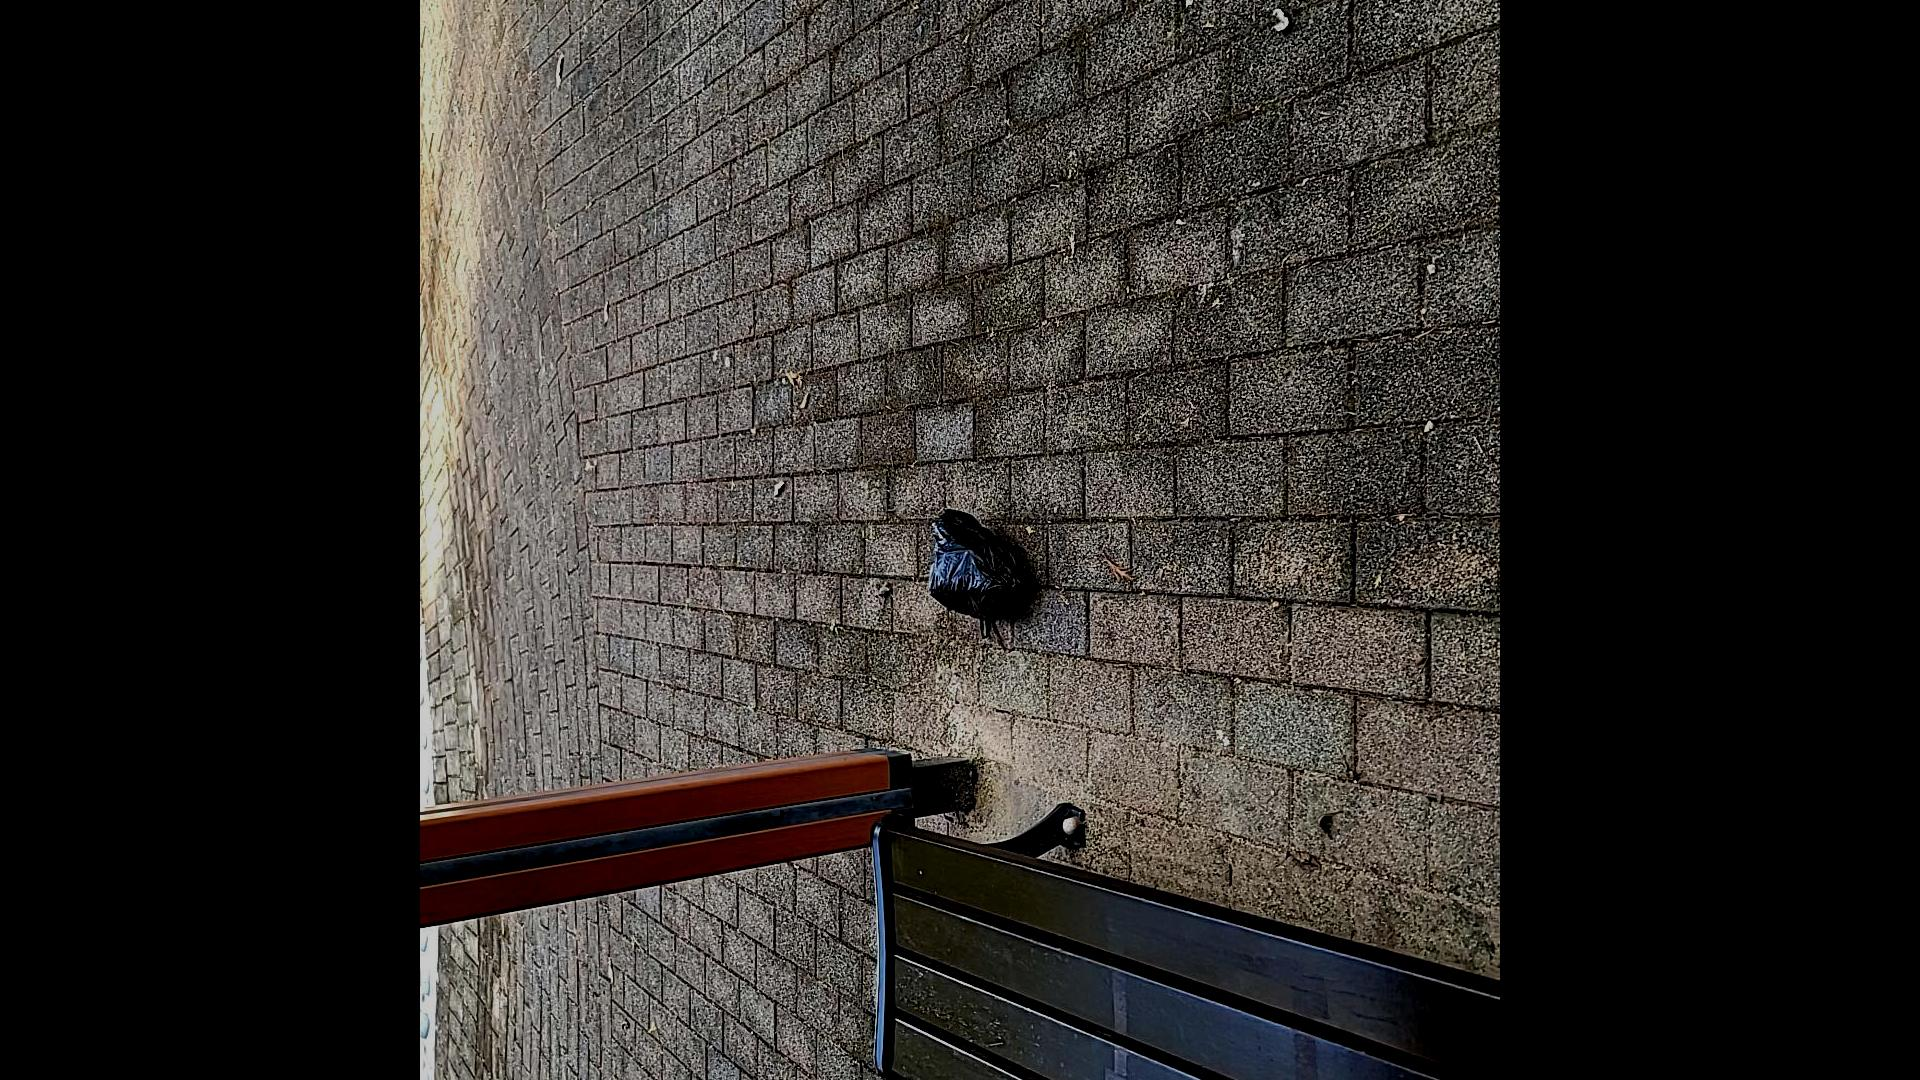black_bag: (923, 501, 1042, 632)
